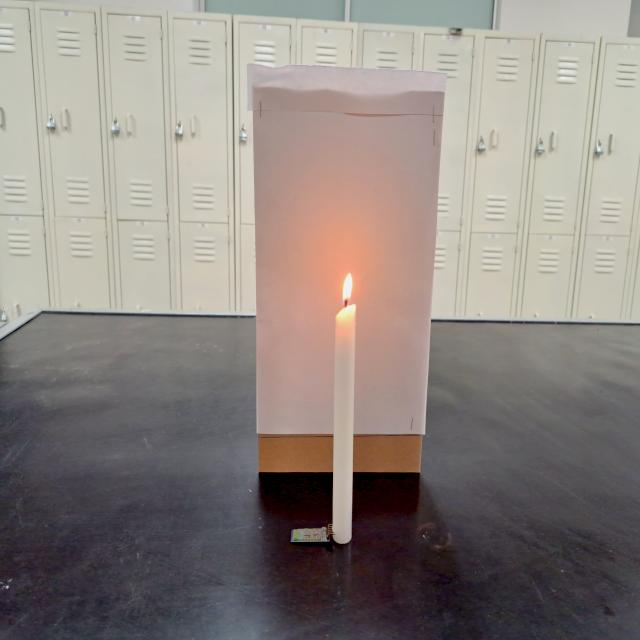candle: (331, 267, 361, 544)
wall: (248, 60, 440, 484)
